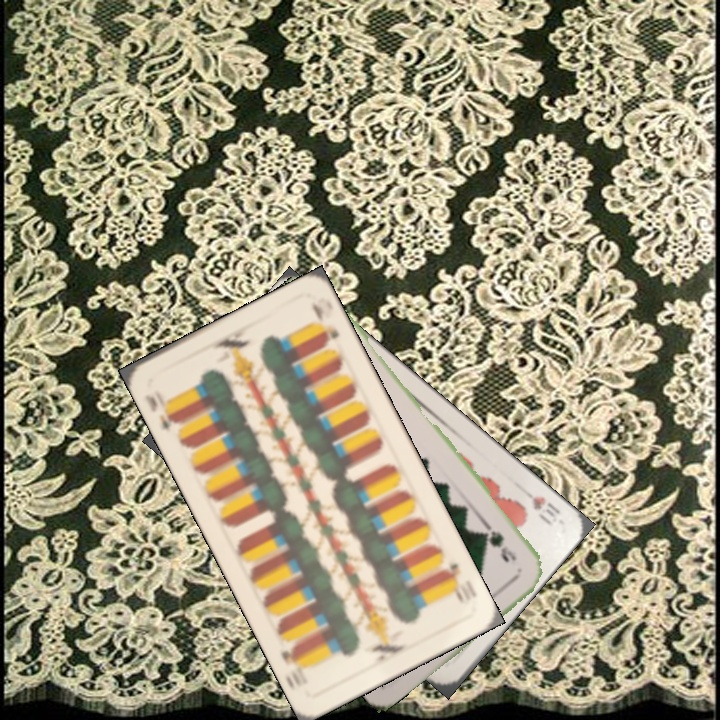E10: (438, 559, 480, 606), (141, 390, 184, 435)
G9: (481, 526, 519, 565)
H10: (528, 492, 563, 528)
